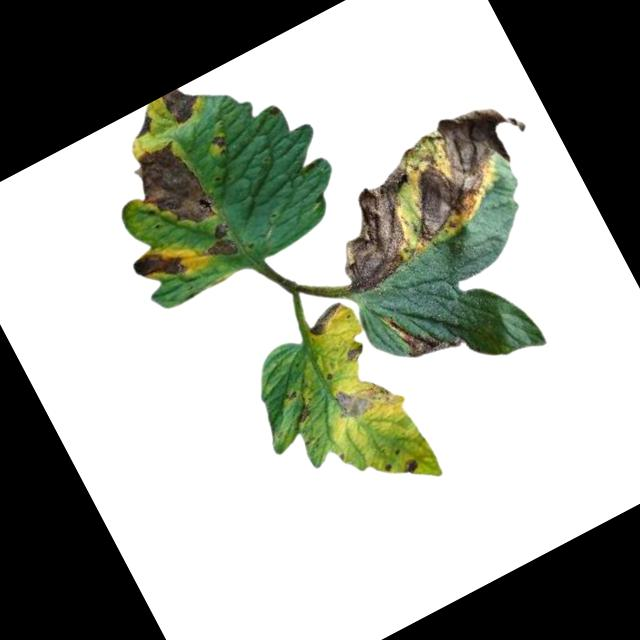Early_blight: (302, 86, 560, 298), (122, 132, 222, 243), (379, 287, 463, 373), (328, 368, 395, 425), (129, 236, 192, 292), (160, 81, 208, 128), (196, 219, 241, 266), (302, 298, 348, 339), (126, 109, 158, 142), (208, 130, 233, 158), (397, 454, 422, 478), (290, 400, 313, 424), (345, 342, 367, 363)
